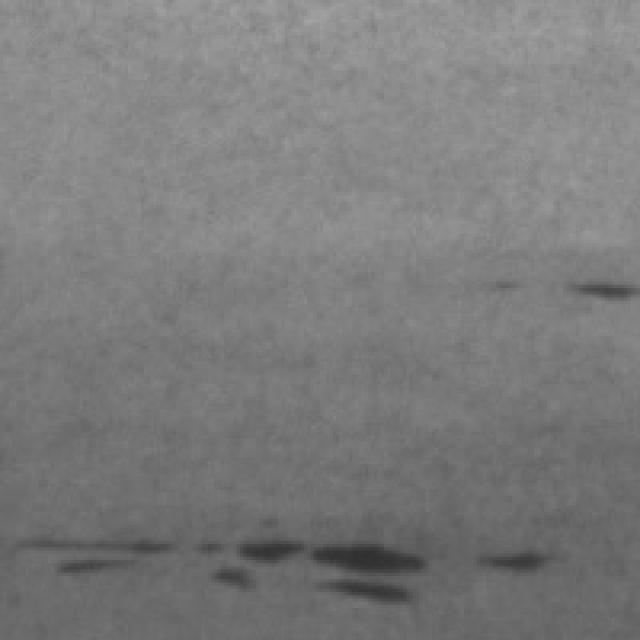inclusion: (0, 525, 432, 605), (467, 532, 554, 582), (531, 262, 637, 301)
